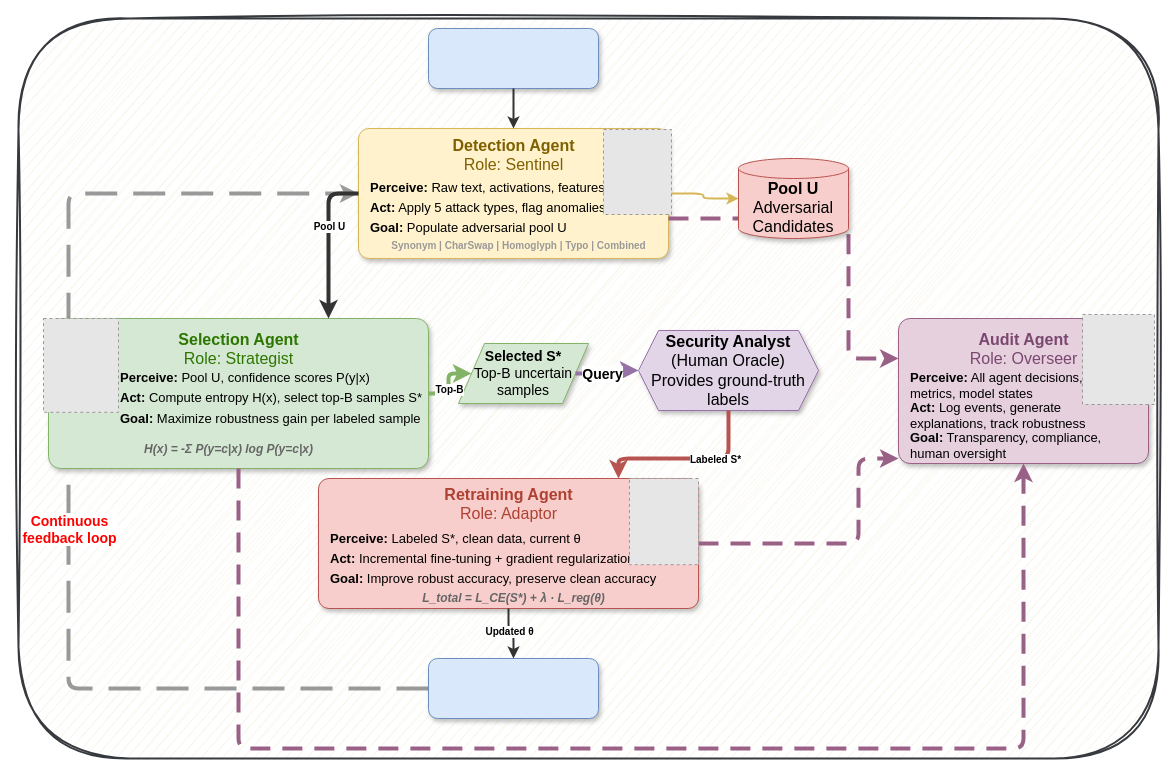
Some shapes in this 1176 by 776 pixel diagram are drawn without their labels. Grey dashed boxes stand in for pictures. Each missing label, with the centre of its shape:
Incoming Data / Model Inputs (CTI Reports): (514,60)
Model Output / Decision Robust CTI Classifier: (514,690)
